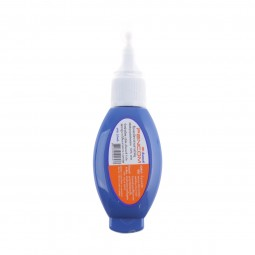Correction_fluid: (90, 24, 164, 236)
